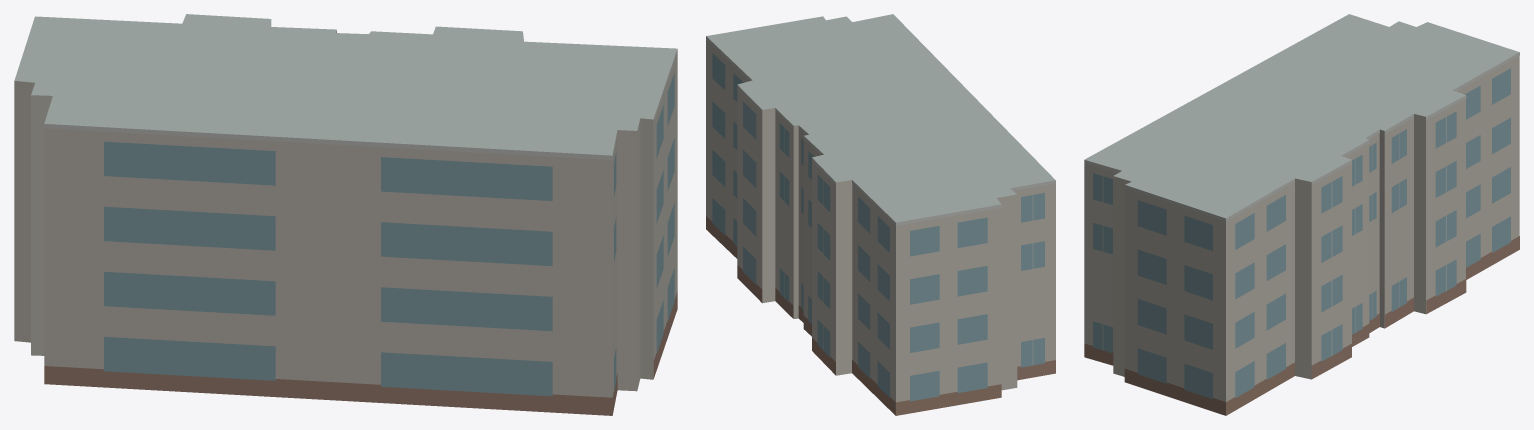
Rendered from survey-upis-32833505.glb.
3 views of the same model, side by side, from view 1: azimuth 30°, elevation 25°; view 2: azimuth 150°, elevation 25°; view 3: azimuth 270°, elevation 25° (orthographic). The views are drawn at different scales.
Parts seen in each view (by area): view 1: survey-upis-32833505.tmp; view 2: survey-upis-32833505.tmp; view 3: survey-upis-32833505.tmp.
Part boxes in pixels (x1,y1,x2,y2): survey-upis-32833505.tmp: (14, 14, 677, 415); survey-upis-32833505.tmp: (706, 14, 1055, 415); survey-upis-32833505.tmp: (1084, 14, 1519, 415).
Bounding box in the file's own units: 31.31 × 14.1 × 28.19.
